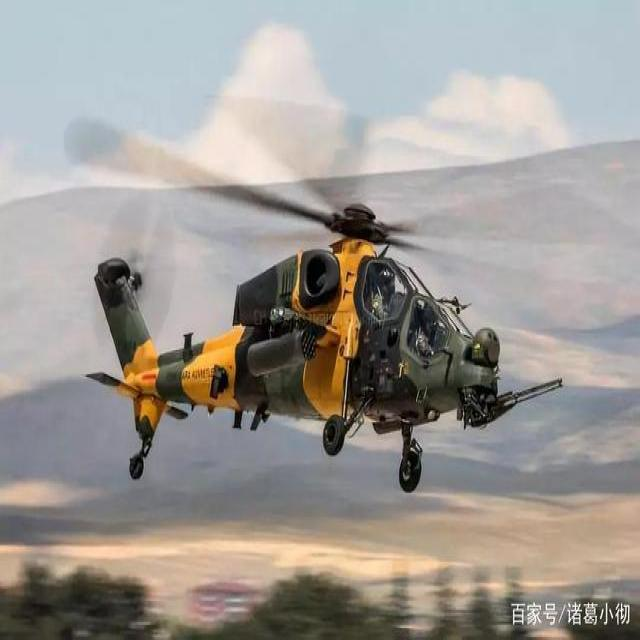MIL_HELO: (69, 91, 582, 502)
